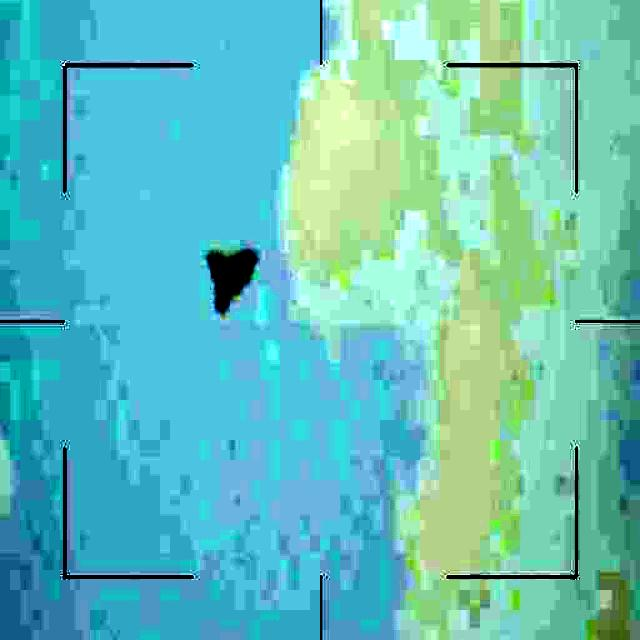bird: (208, 242, 258, 319)
